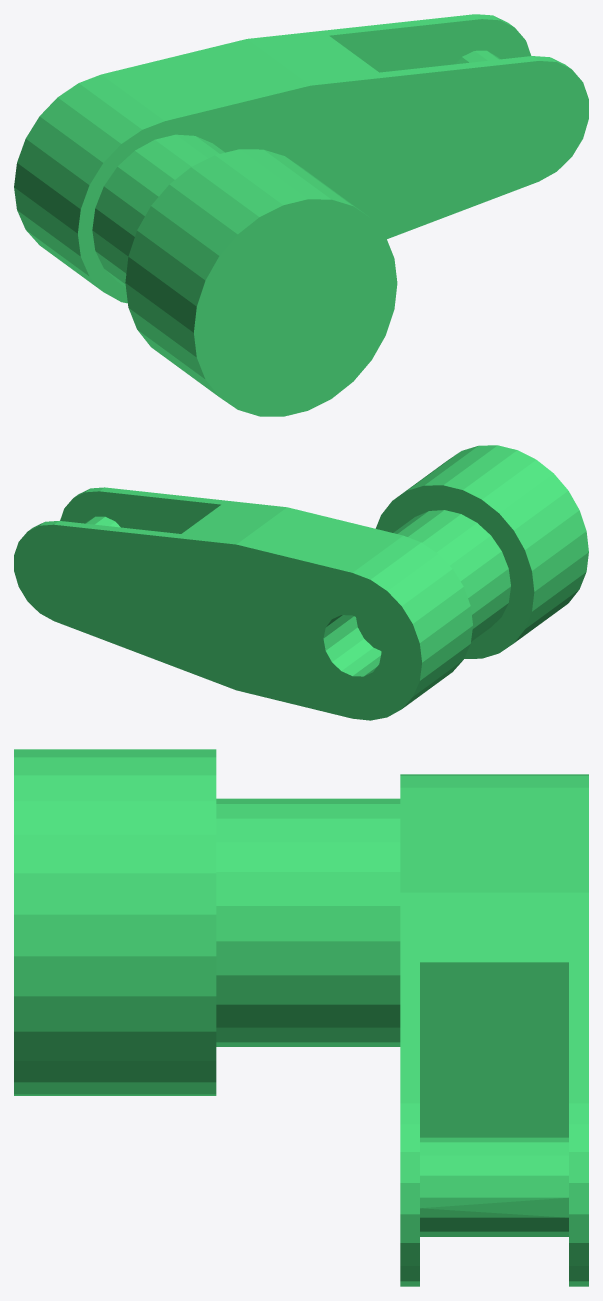
File: test_leg42_visual_vis_1.dae
3 renders of one model, top to bottom at view 1: azimuth 30°, elevation 25°; view 2: azimuth 150°, elevation 25°; view 3: azimuth 270°, elevation 25°, orthographic. The views are drawn at different scales.
Visible parts, largest first — view 1: Node_000002AD2EA28EA0; view 2: Node_000002AD2EA28EA0; view 3: Node_000002AD2EA28EA0.
Boxes of the visible parts, x1,y1,x2,y2 form: Node_000002AD2EA28EA0: [14, 14, 588, 416]; Node_000002AD2EA28EA0: [14, 445, 588, 720]; Node_000002AD2EA28EA0: [14, 749, 588, 1286].
Size of the model in its own units: 0.1807 by 0.0695 by 0.1158.
